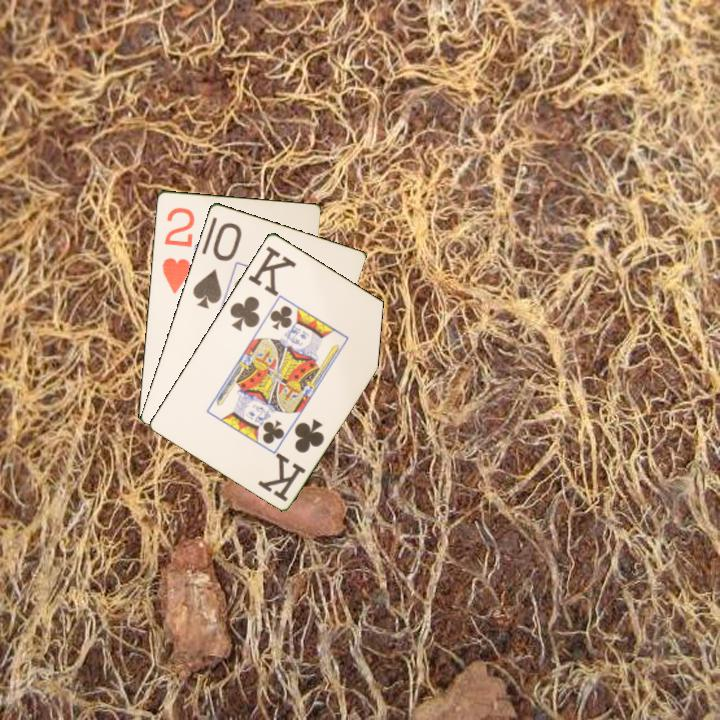10s: (189, 218, 244, 311)
2h: (158, 204, 197, 296)
Kc: (226, 242, 299, 334), (255, 414, 327, 504)
